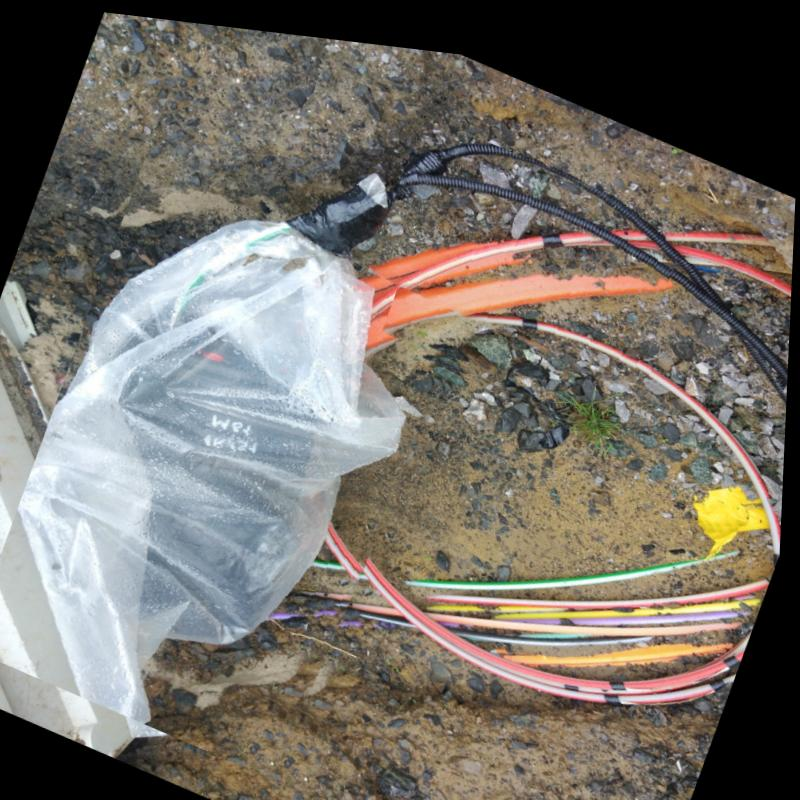NT-Muffen: (28, 148, 439, 704)
Orang-Speednetrohrchen: (384, 245, 692, 324), (371, 211, 690, 277)
